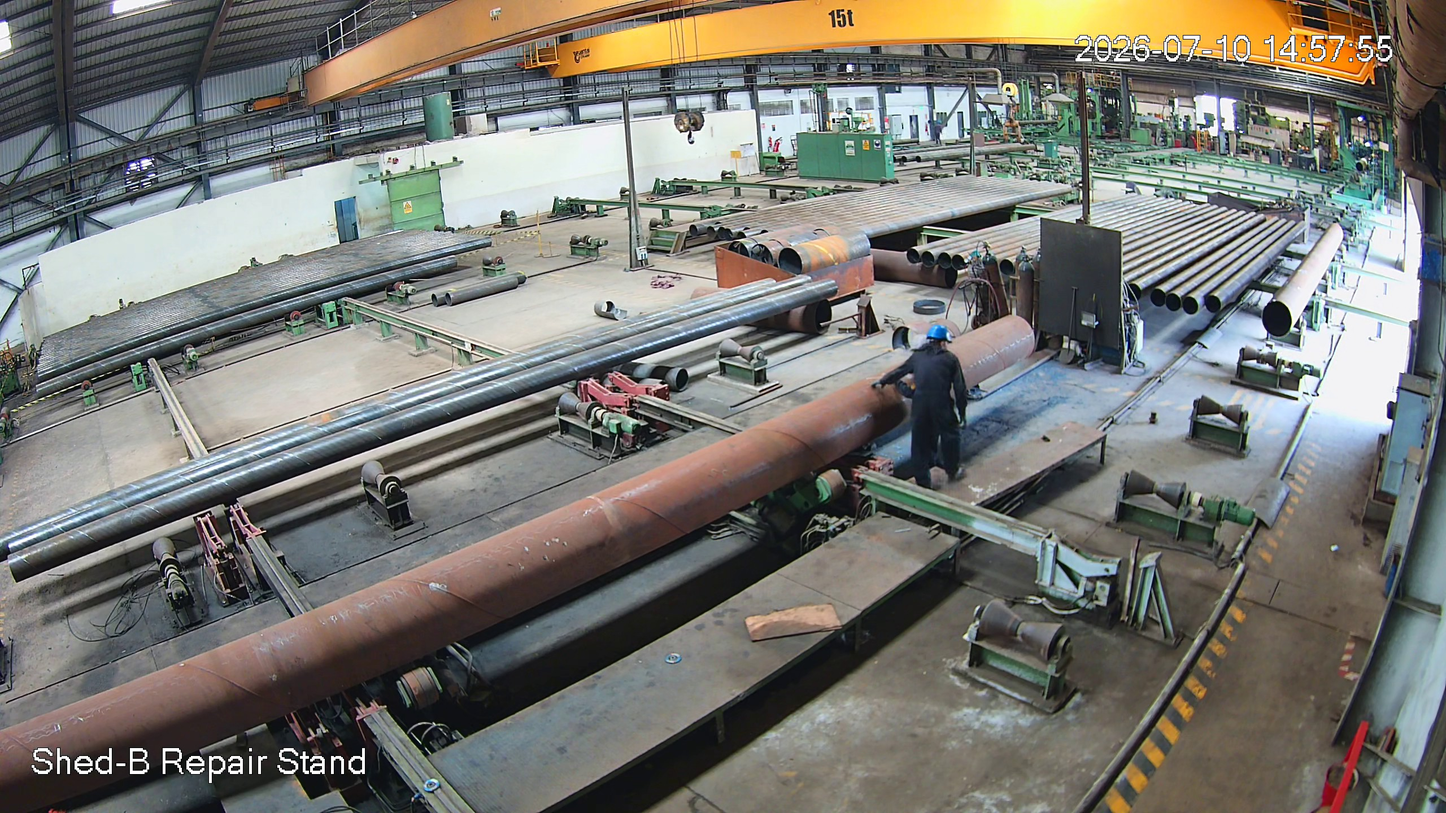Helmet: (919, 319, 964, 373)
Person: (910, 322, 964, 493)
